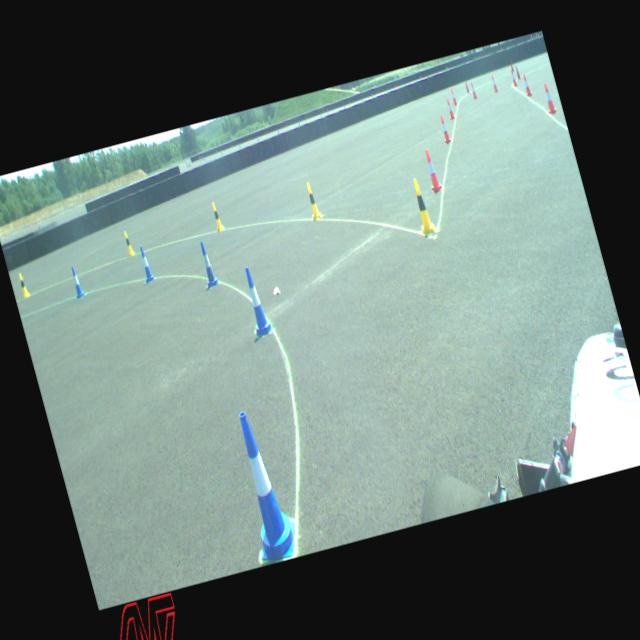blue_cone: (224, 406, 302, 564), (239, 264, 274, 338), (196, 239, 219, 287), (136, 245, 155, 282), (68, 265, 86, 298)
orange_cone: (421, 148, 442, 192), (540, 81, 558, 114), (438, 114, 452, 143), (520, 73, 532, 96), (445, 98, 455, 119), (490, 74, 498, 92), (509, 68, 517, 86), (469, 81, 477, 98), (449, 88, 457, 105)
unknown_cone: (514, 64, 520, 79), (464, 80, 469, 92), (509, 60, 514, 71)
yellow_cone: (408, 176, 436, 235), (304, 181, 322, 221), (210, 200, 223, 230), (16, 272, 29, 298), (122, 230, 134, 256)
